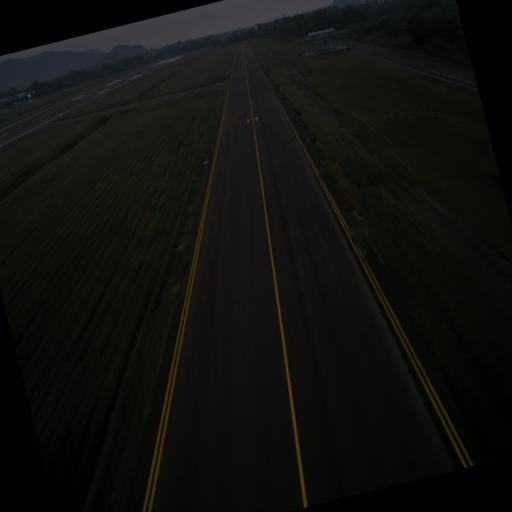on: (352, 207, 360, 220), (180, 240, 189, 250)
